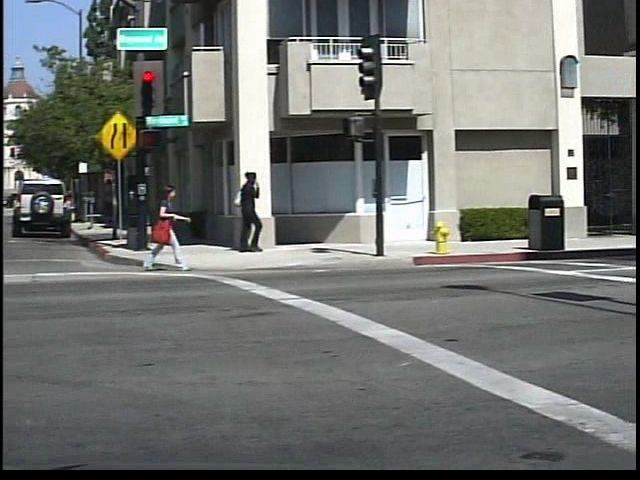person: (151, 181, 201, 274), (236, 169, 278, 255)
